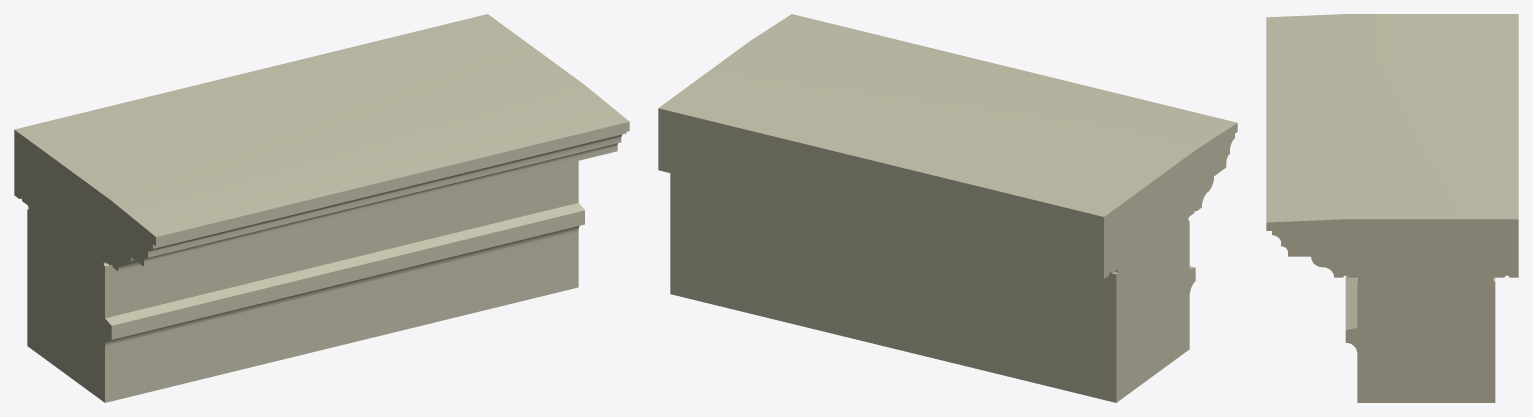
The picture shows the model from 3 angles, left to right: view 1: azimuth 30°, elevation 25°; view 2: azimuth 150°, elevation 25°; view 3: azimuth 270°, elevation 25°; orthographic projection. The views are drawn at different scales.
Visible parts, largest first — view 1: Object_2; view 2: Object_2; view 3: Object_2.
Part boxes in pixels (left/top/right/bottom): Object_2: left=14, top=14, right=629, bottom=402; Object_2: left=658, top=14, right=1237, bottom=402; Object_2: left=1266, top=14, right=1518, bottom=402.
Size of the model in its own units: 105 by 44 by 54.68.
